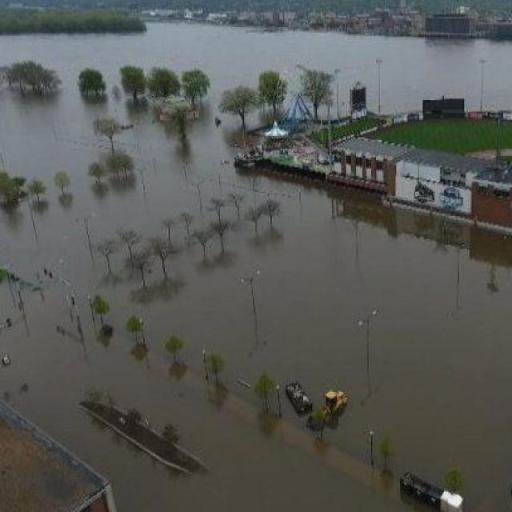flood: (120, 186, 512, 512), (0, 283, 430, 512), (0, 89, 306, 281), (0, 22, 512, 128)
house: (398, 145, 481, 216), (328, 150, 396, 202), (426, 10, 473, 36), (354, 15, 376, 33)
